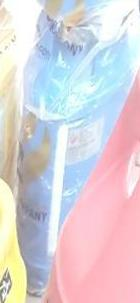cylinder: (1, 1, 140, 303)
